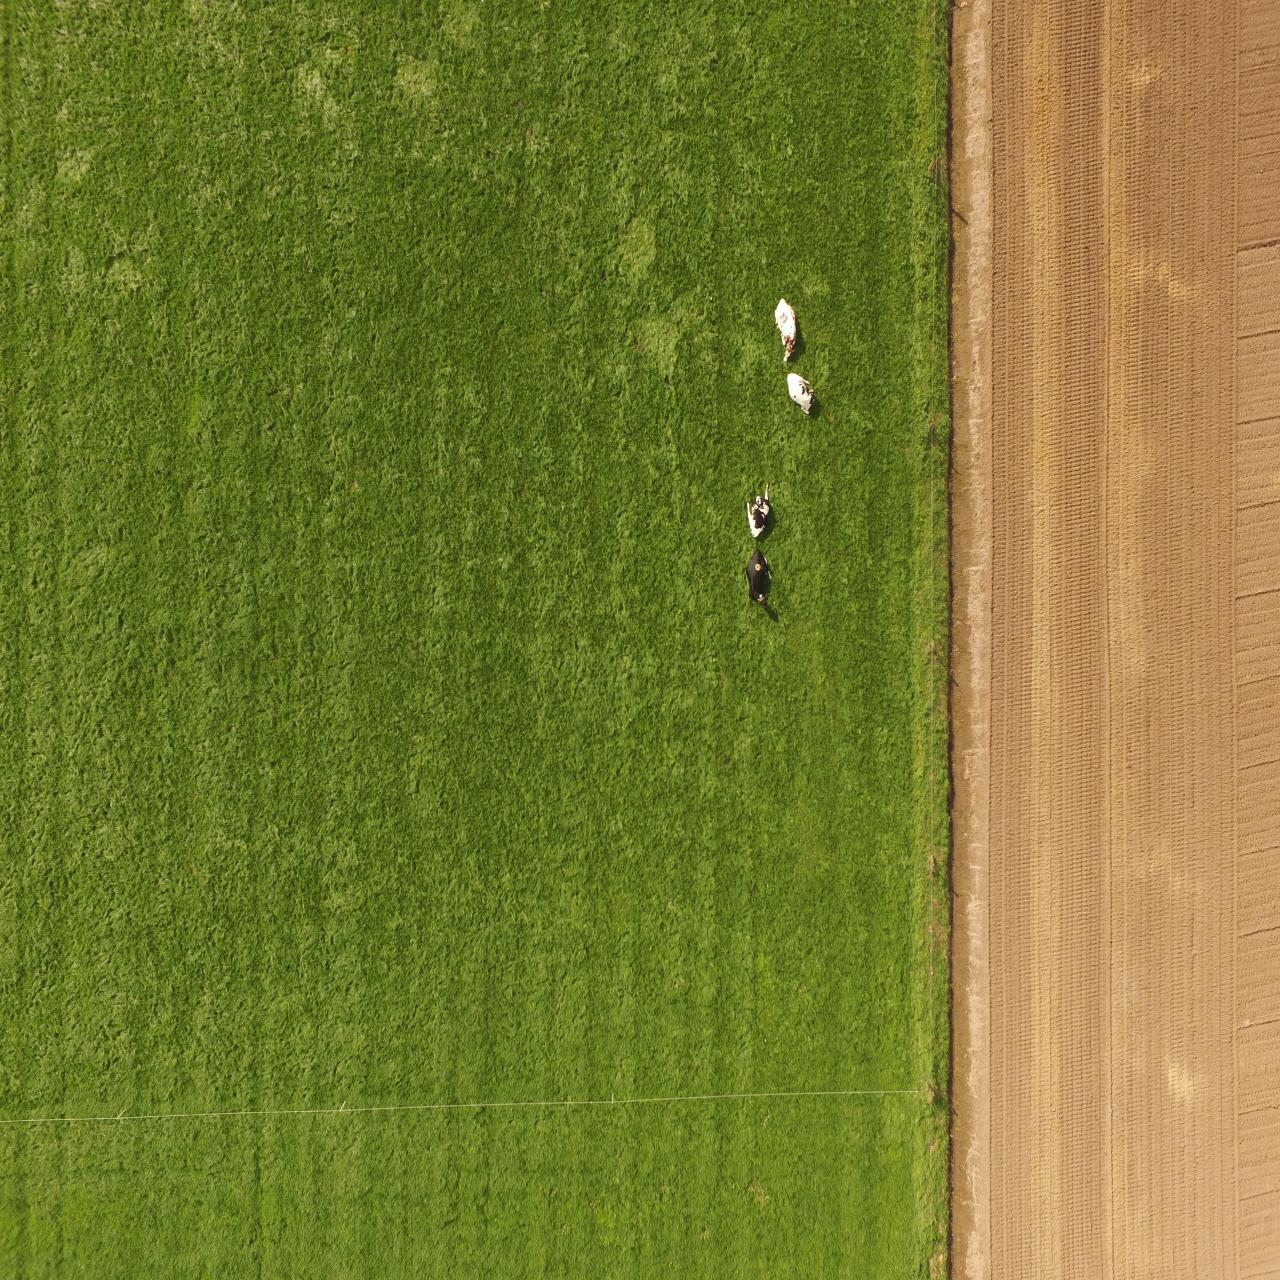cow: (770, 293, 800, 366), (742, 544, 774, 609), (742, 483, 774, 541), (784, 367, 818, 419)
